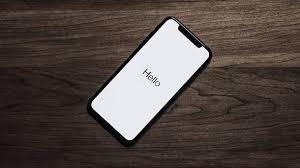Smartphone: (95, 15, 207, 142)
